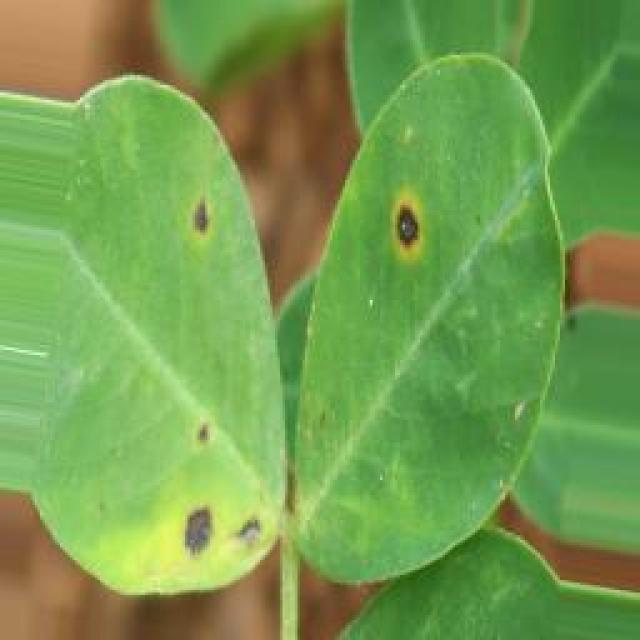Sigatoka: (178, 487, 276, 564), (380, 172, 437, 275), (178, 412, 252, 488), (191, 180, 242, 255)
